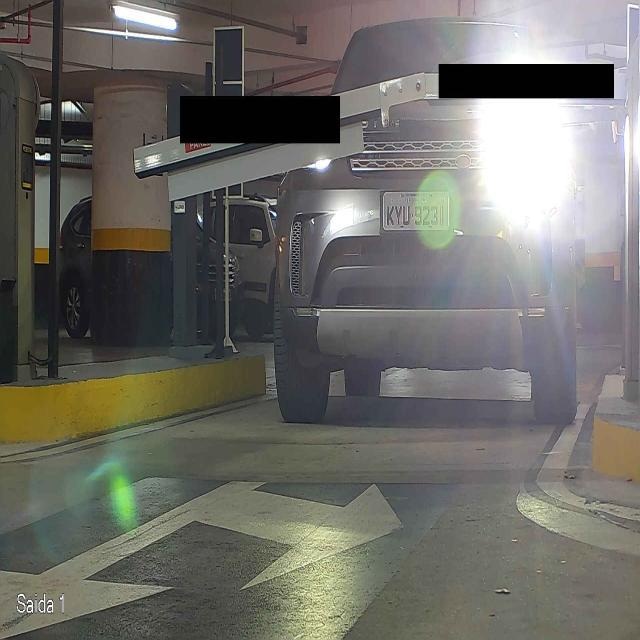old_plate: (381, 189, 454, 233)
